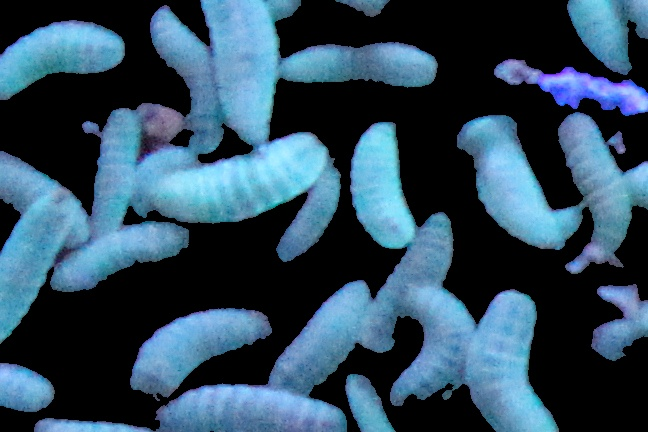larvae: (441, 106, 588, 256), (147, 130, 335, 225), (115, 300, 275, 405), (268, 277, 382, 410), (365, 204, 461, 358), (49, 204, 195, 298), (385, 276, 478, 416), (551, 110, 636, 260), (196, 1, 280, 144), (143, 1, 224, 148), (476, 286, 554, 432), (1, 199, 67, 349), (1, 20, 131, 94), (346, 117, 418, 249), (273, 39, 438, 91), (156, 390, 354, 432), (262, 163, 343, 262), (76, 108, 136, 228), (1, 158, 90, 238), (284, 1, 396, 26)
